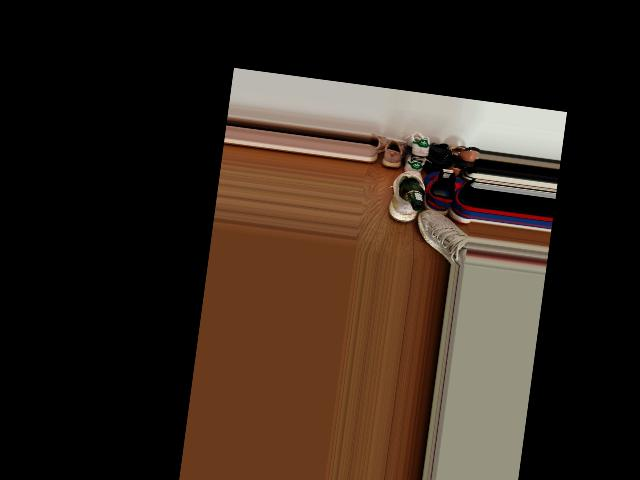beer: (397, 177, 427, 212)
